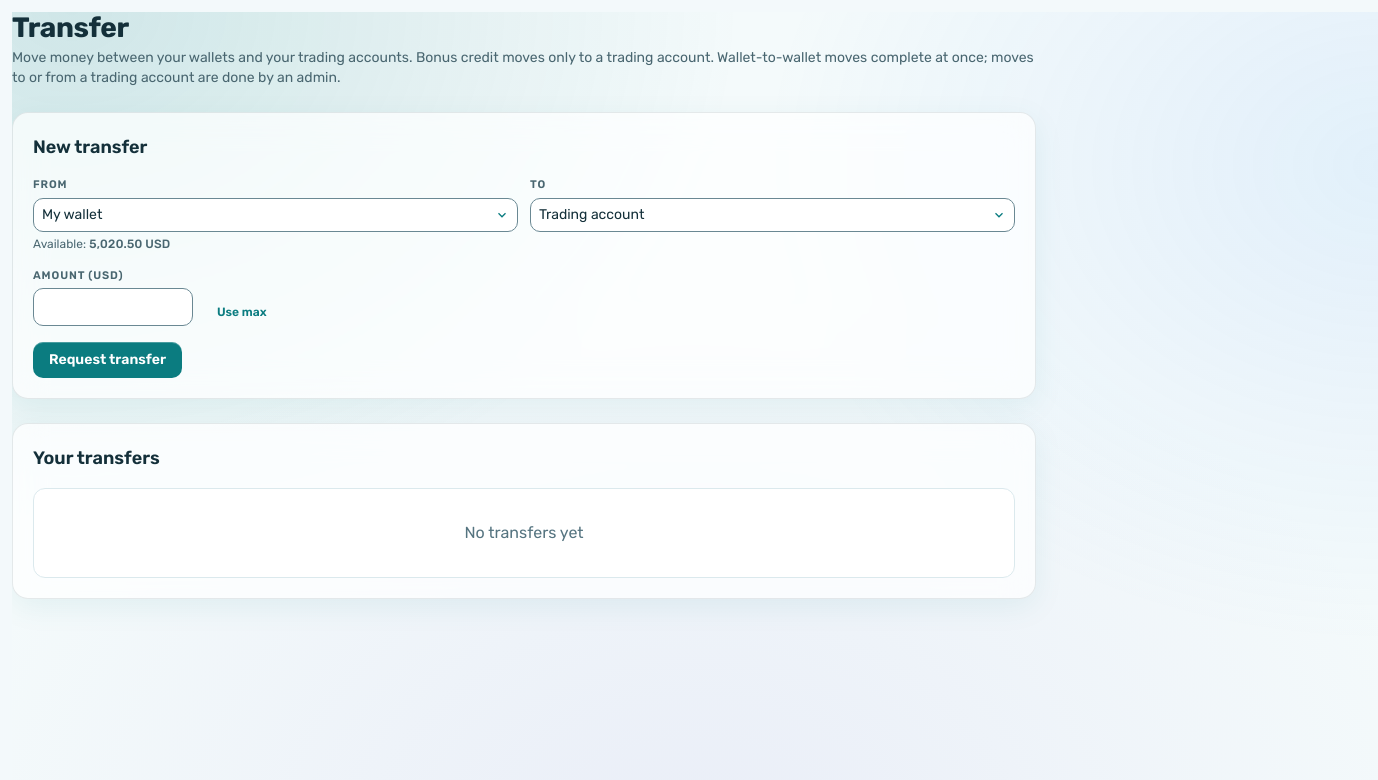
Test: an amount that is not above zero never reaches the review
Step 1. Type "0" into the field named "Amount in USD" → (113, 307), box [33,288,193,326]
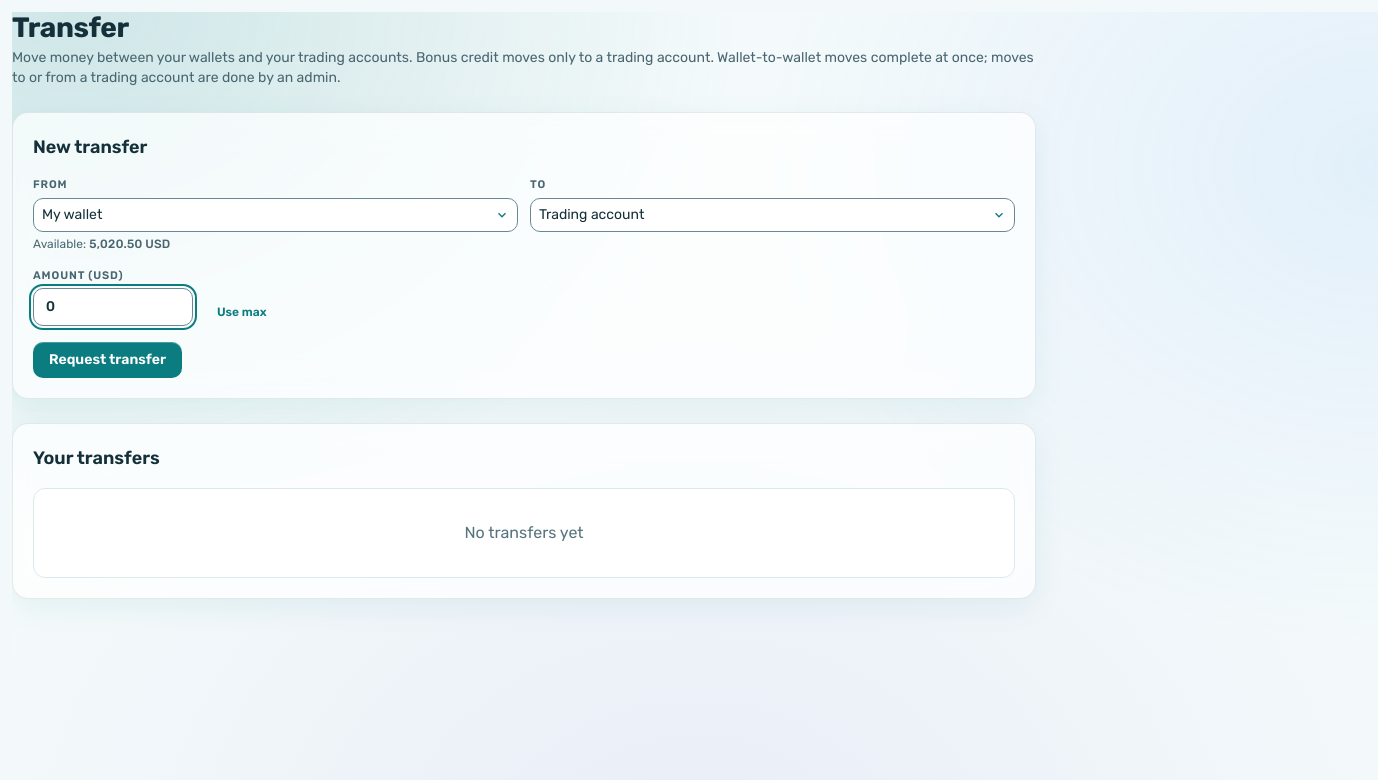
Step 2. Click the button "Request transfer" → (108, 360), box [33,342,182,378]
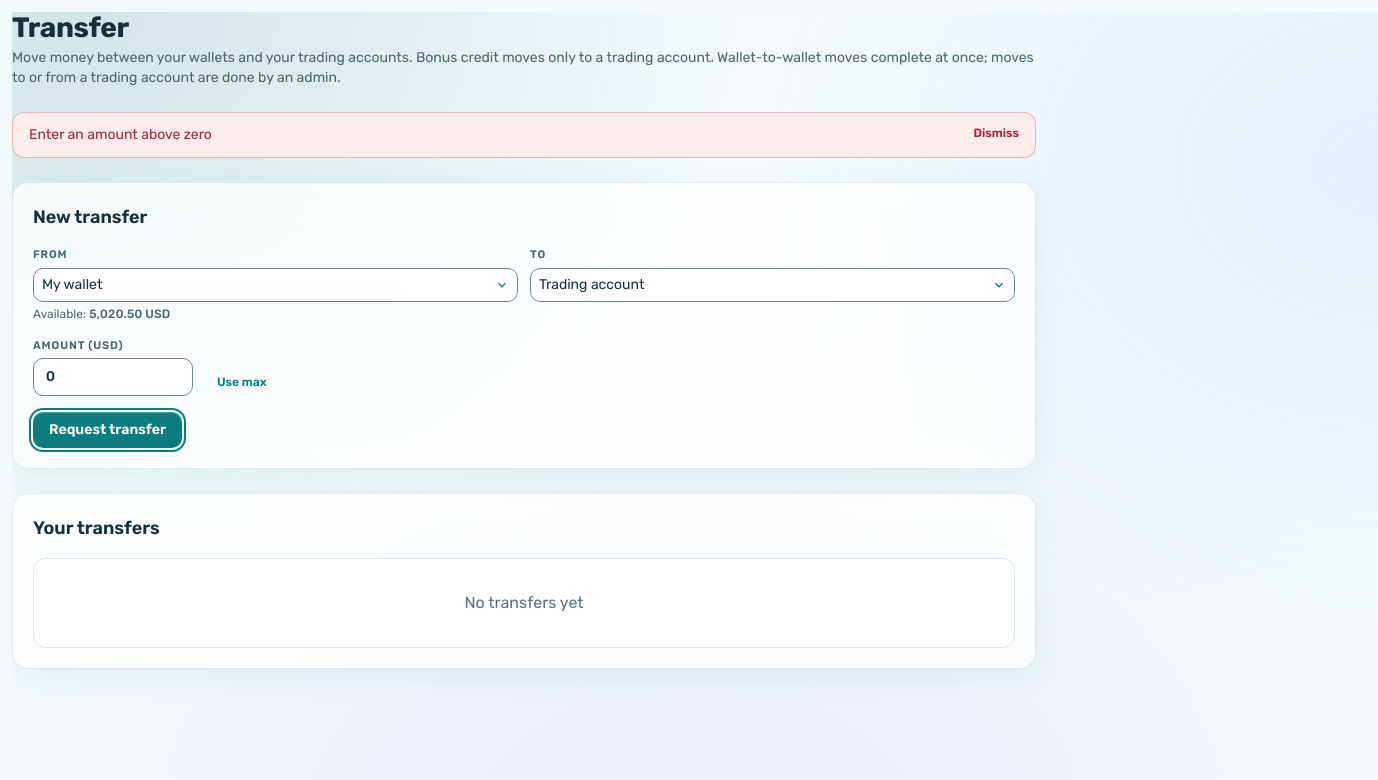
Check: the text "Enter an amount above zero" is shown, box [29,125,212,145]
